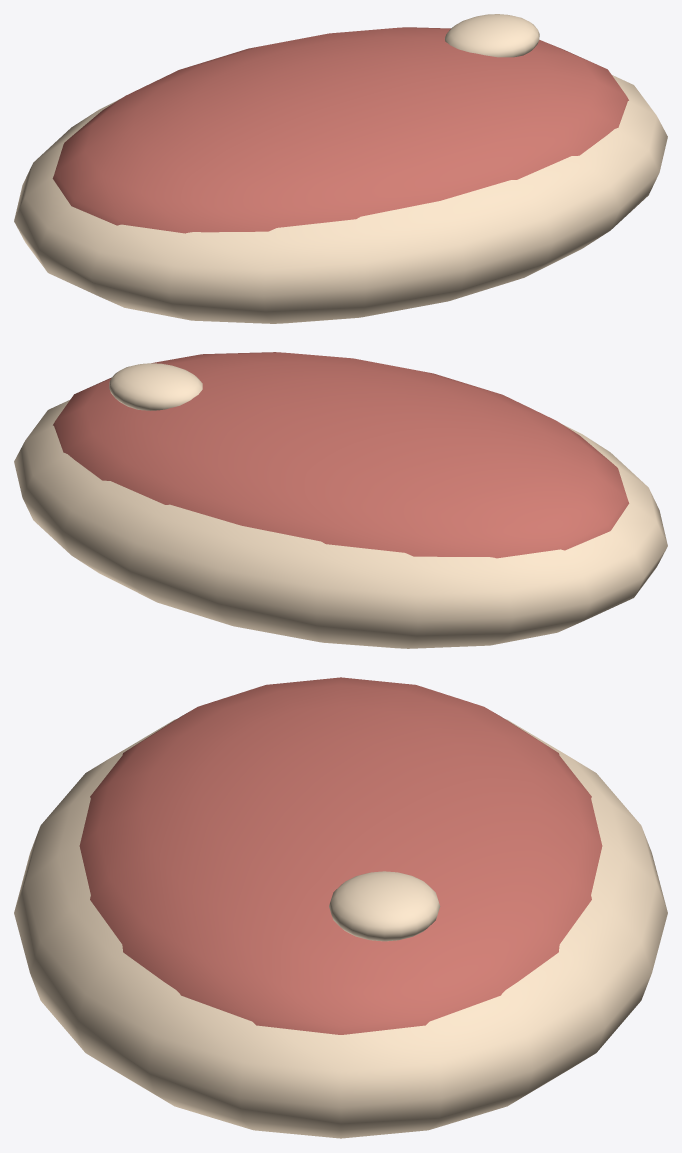
File: raw_meat.glb
3 renders of one model, top to bottom at view 1: azimuth 30°, elevation 25°; view 2: azimuth 150°, elevation 25°; view 3: azimuth 270°, elevation 25°, orthographic. The views are drawn at different scales.
Visible parts, largest first — view 1: Meat, Meat fat, Bone; view 2: Meat, Meat fat, Bone; view 3: Meat, Meat fat, Bone.
Part boxes in pixels (box(x1,y1,x2,y2)): Meat: box(52, 27, 628, 233); Meat fat: box(14, 75, 667, 323); Bone: box(444, 14, 539, 57); Meat: box(53, 352, 629, 558); Meat fat: box(14, 400, 667, 648); Bone: box(109, 363, 202, 410); Meat: box(79, 677, 602, 1034); Meat fat: box(14, 719, 667, 1138); Bone: box(329, 871, 440, 941).
Bounding box in the file's own units: 0.38 × 0.114 × 0.27.
